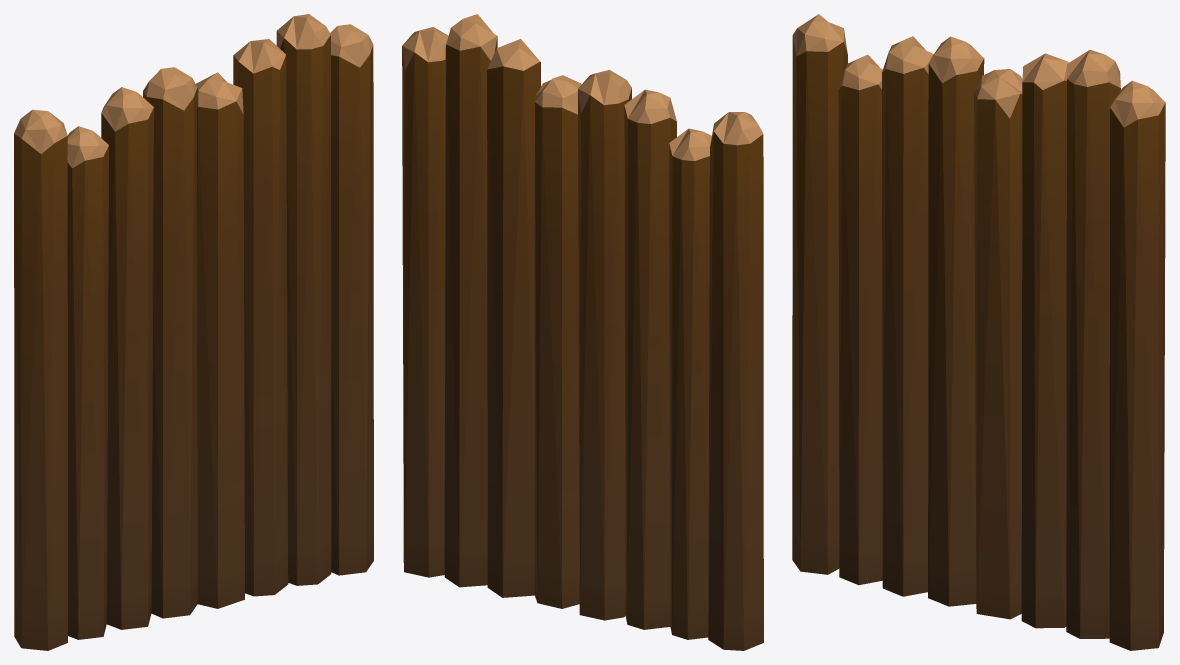
File: FenceBig_02.fbx
3 renders of one model, left to right at view 1: azimuth 30°, elevation 25°; view 2: azimuth 150°, elevation 25°; view 3: azimuth 330°, elevation 25°, orthographic. The views are drawn at different scales.
Visible parts, largest first — view 1: FenceBig_02; view 2: FenceBig_02; view 3: FenceBig_02.
Boxes of the visible parts, bbox=[...] form: FenceBig_02: bbox=[14, 14, 373, 650]; FenceBig_02: bbox=[402, 14, 763, 650]; FenceBig_02: bbox=[792, 14, 1165, 650].
Bounding box in the file's own units: 226 × 341 × 32.1.
